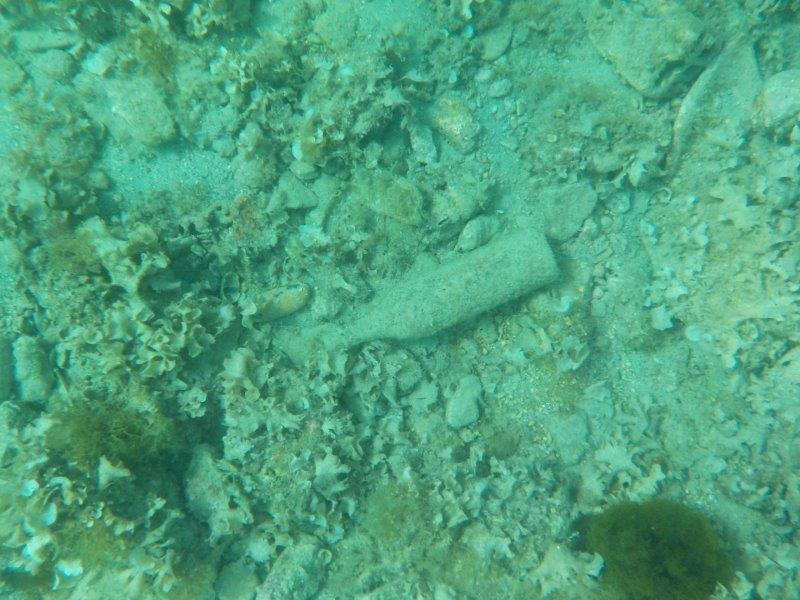bottle: (320, 226, 564, 356)
